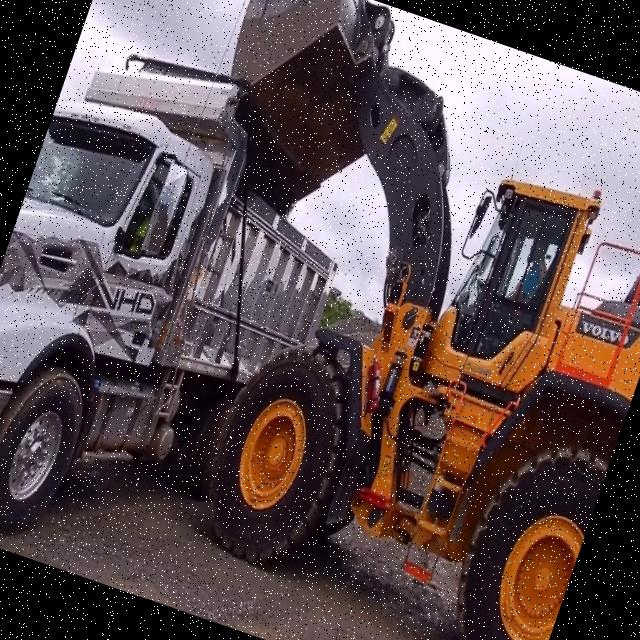Dump Truck: (0, 22, 387, 613)
Loader: (57, 0, 640, 640)
